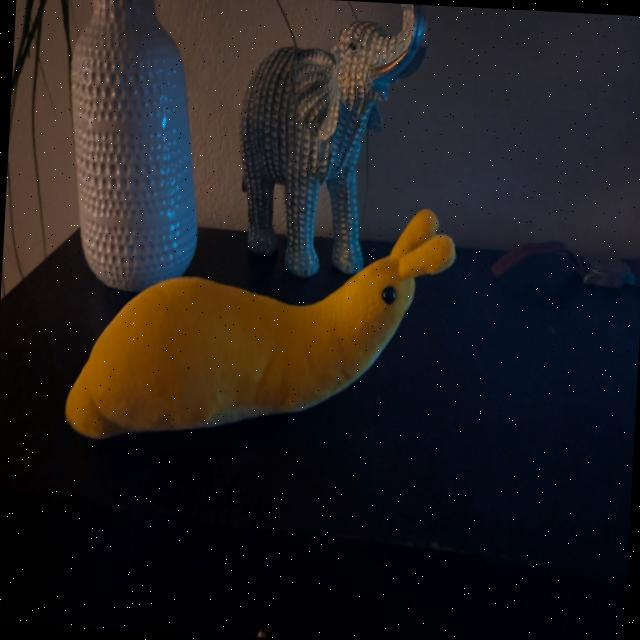banana-slug-toy: (46, 176, 474, 467)
